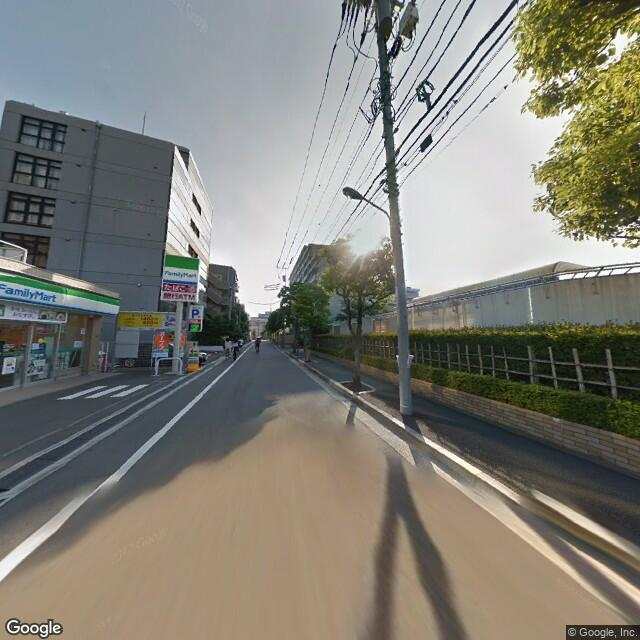family_mart: (1, 269, 119, 320), (161, 249, 199, 290)
